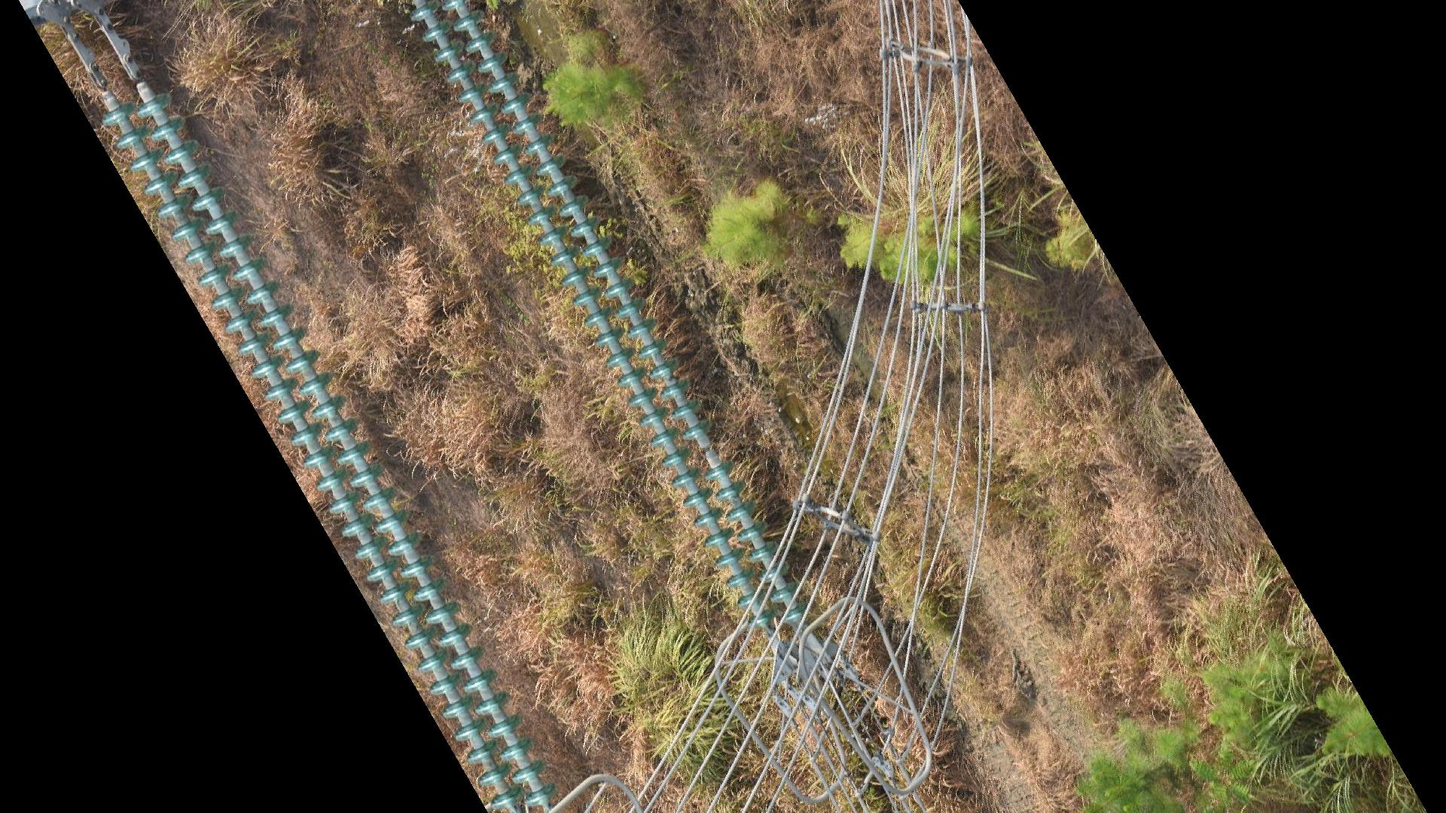insulator: (96, 90, 563, 813), (406, 1, 810, 635)
insulator_stringdrop: (679, 417, 736, 484)
